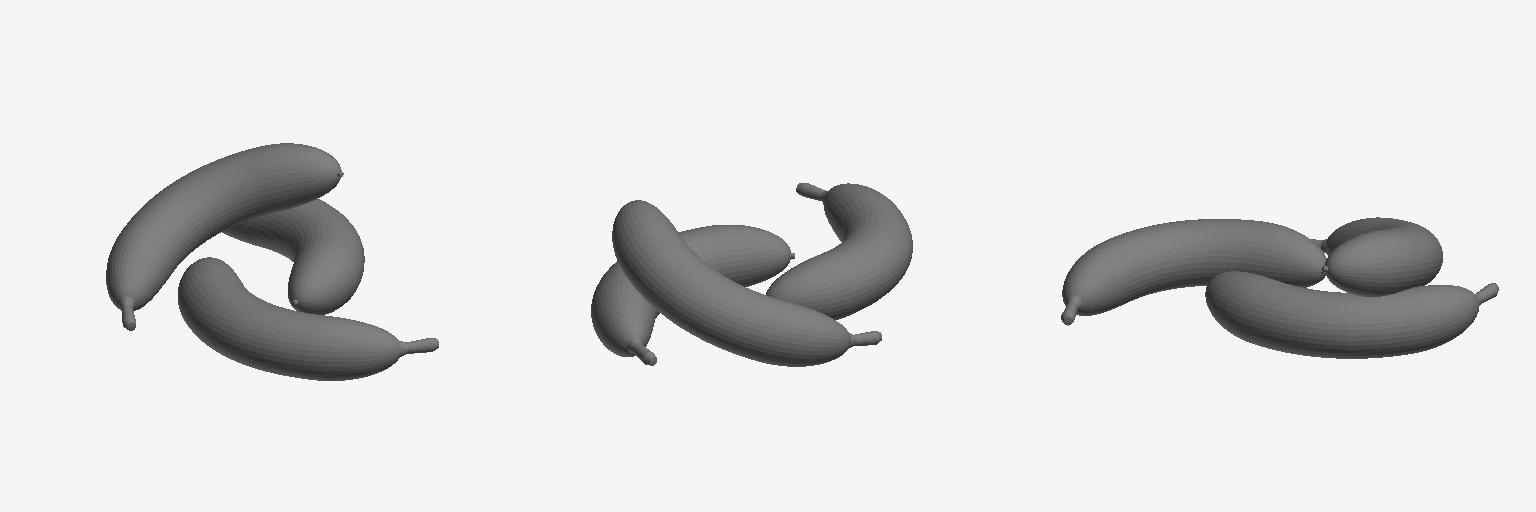
File: platano.obj
3 renders of one model, left to right at view 1: azimuth 30°, elevation 25°; view 2: azimuth 150°, elevation 25°; view 3: azimuth 270°, elevation 25°, orthographic.
Parts seen in each view (by area): view 1: banana_banana1.002, banana_banana1, banana_banana1.001; view 2: banana_banana1.002, banana_banana1, banana_banana1.001; view 3: banana_banana1.001, banana_banana1, banana_banana1.002.
Part boxes in pixels (left/top/right/bottom): banana_banana1.002: left=106, top=143, right=343, bottom=330; banana_banana1: left=178, top=257, right=438, bottom=380; banana_banana1.001: left=222, top=199, right=364, bottom=314; banana_banana1.002: left=612, top=200, right=881, bottom=366; banana_banana1: left=766, top=183, right=912, bottom=319; banana_banana1.001: left=591, top=225, right=794, bottom=365; banana_banana1.001: left=1205, top=271, right=1498, bottom=358; banana_banana1: left=1061, top=219, right=1326, bottom=325; banana_banana1.002: left=1311, top=217, right=1442, bottom=296.
Bounding box in the file's own units: 1.18 × 0.5338 × 1.83.